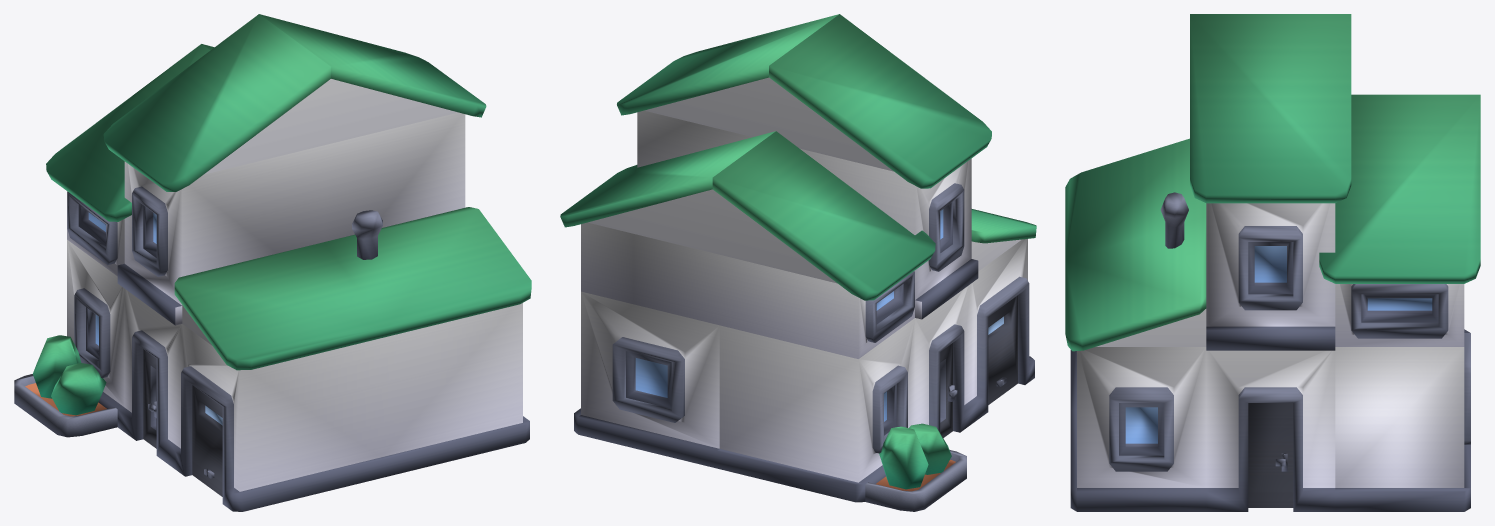
File: n1_building-type-c_lev1.001.glb
3 views of the same model, side by side, from view 1: azimuth 30°, elevation 25°; view 2: azimuth 150°, elevation 25°; view 3: azimuth 270°, elevation 25° (orthographic). The views are drawn at different scales.
Visible parts, largest first — view 1: n1_building-type-c_lev1.001; view 2: n1_building-type-c_lev1.001; view 3: n1_building-type-c_lev1.001.
Boxes of the visible parts, x1,y1,x2,y2 form: n1_building-type-c_lev1.001: (14, 14, 531, 511); n1_building-type-c_lev1.001: (560, 14, 1036, 511); n1_building-type-c_lev1.001: (1065, 14, 1480, 511).
Bounding box in the file's own units: 7.97 × 7.78 × 7.03.
Materials: 1 (1 with a texture image).
